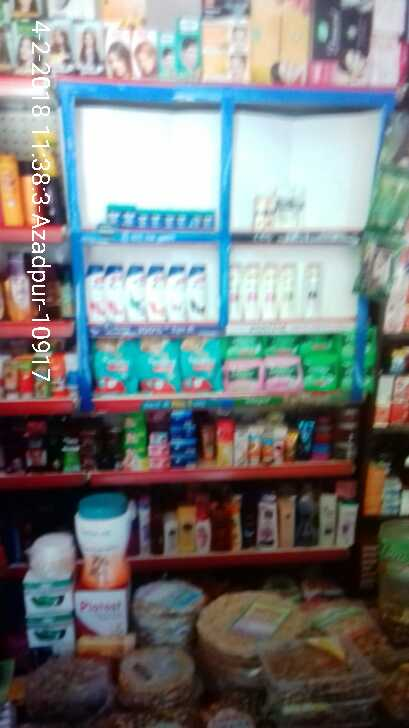vicks: (104, 202, 216, 233)
